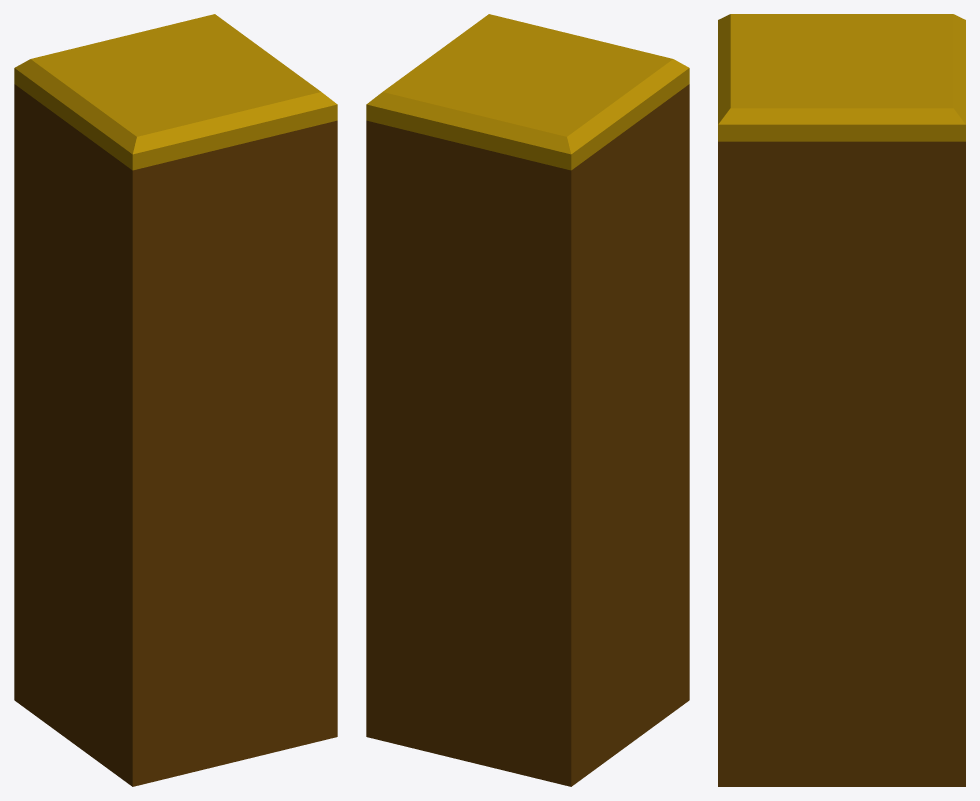
File: Cliff2.fbx
3 renders of one model, left to right at view 1: azimuth 30°, elevation 25°; view 2: azimuth 150°, elevation 25°; view 3: azimuth 270°, elevation 25°, orthographic. The views are drawn at different scales.
Visible parts, largest first — view 1: Cube; view 2: Cube; view 3: Cube.
Boxes of the visible parts, bbox=[...] form: Cube: bbox=[14, 14, 337, 786]; Cube: bbox=[366, 14, 689, 786]; Cube: bbox=[718, 14, 965, 786].
Bounding box in the file's own units: 2 × 6 × 2.
